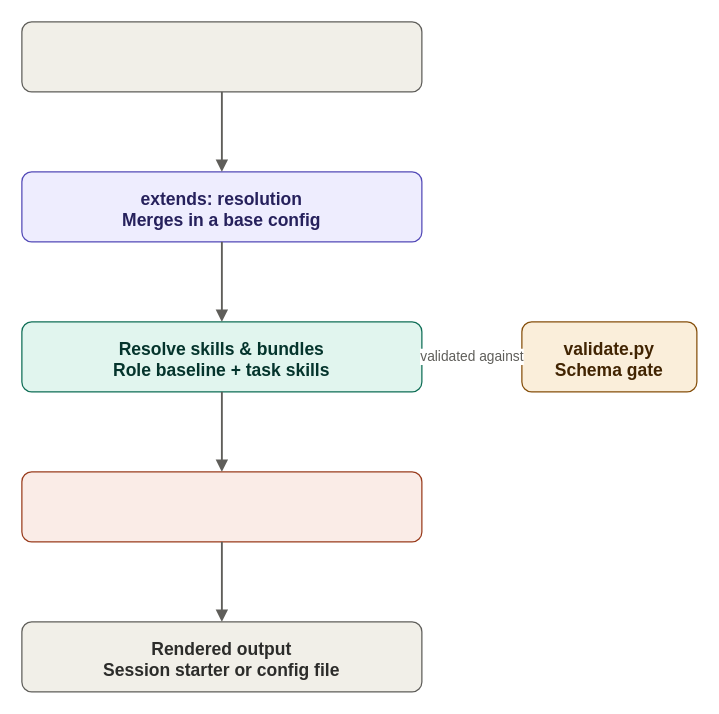
This 719x714 diagram has some shape labels left out. Here are the shapes that lost their labels. From the top down, the centre of each, then its label:
At (221,56): "agent.yaml Role, task, mode, target".
At (221,506): "Jinja2 template render renderers/*.j2 by target".
